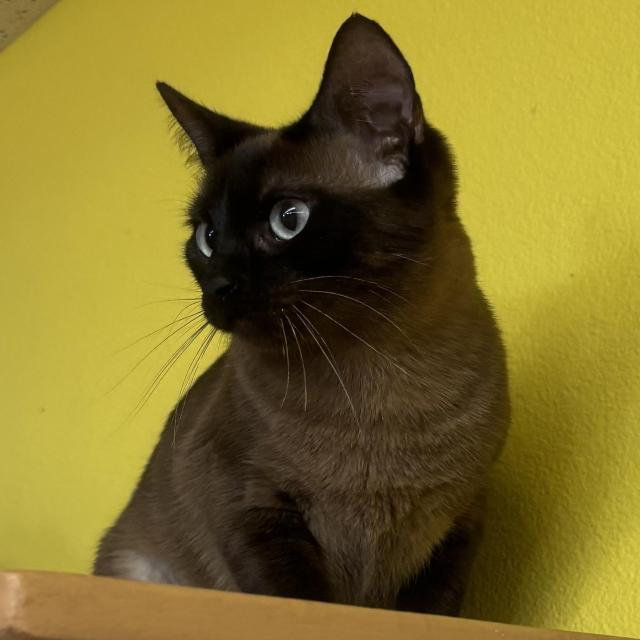siamese_cat: (122, 9, 483, 442)
